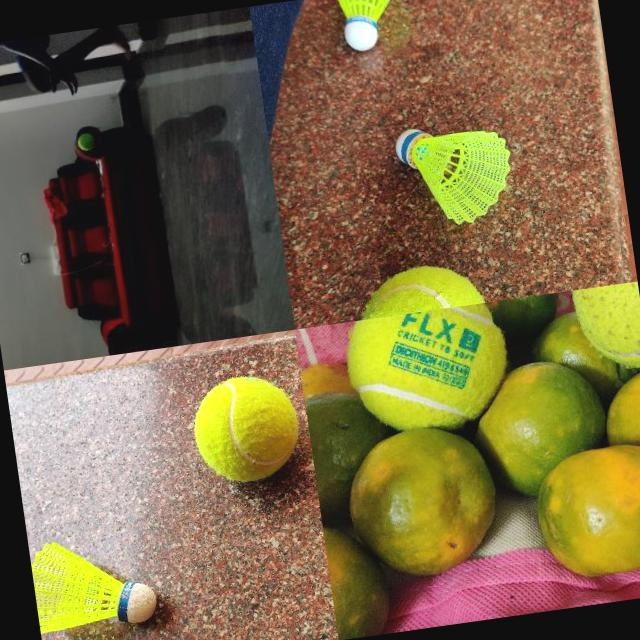tennis-ball: (341, 305, 484, 436), (188, 369, 304, 486), (351, 257, 488, 320), (570, 282, 640, 377), (76, 132, 96, 152)
